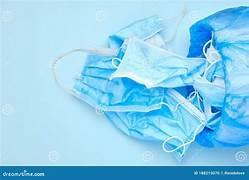Mask: (189, 7, 248, 146)
